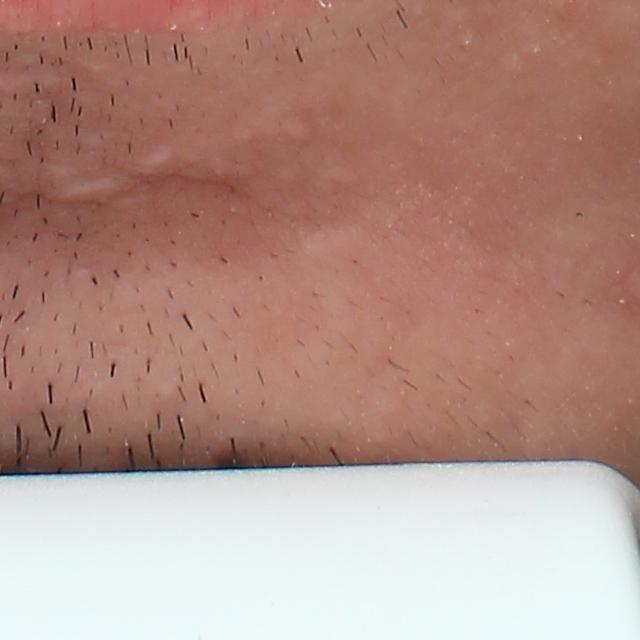hypertrophic_scar: (293, 220, 376, 278), (49, 174, 138, 206), (123, 144, 180, 182), (280, 114, 316, 142)
